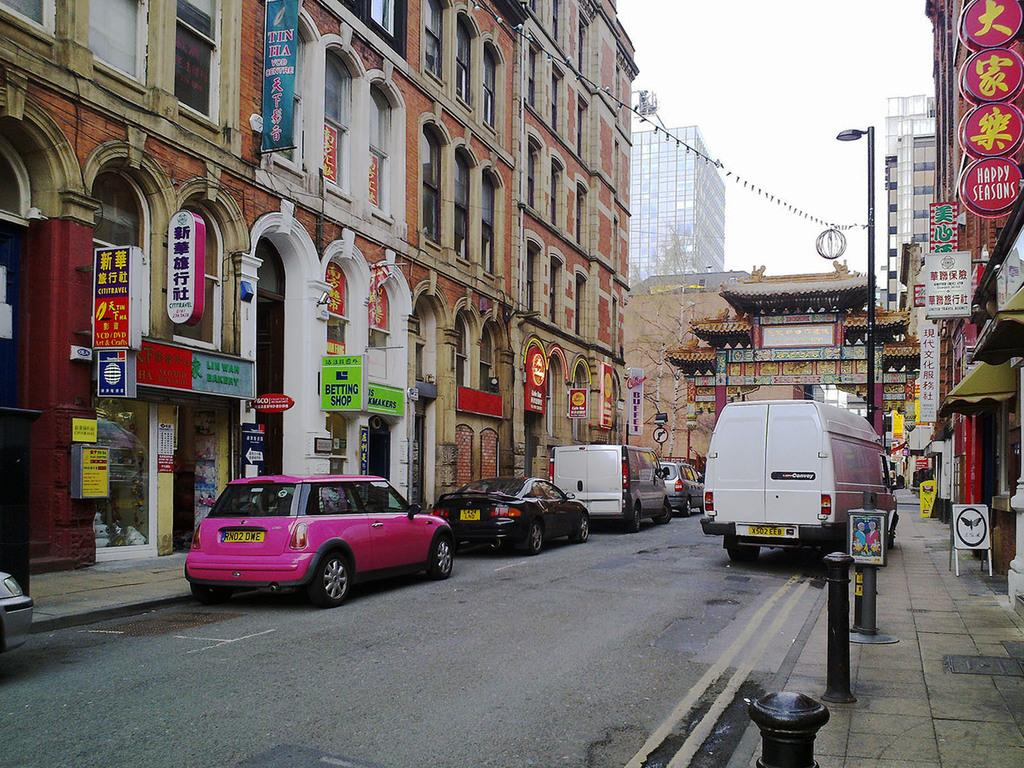vehicle: (184, 476, 457, 609), (701, 400, 907, 563), (431, 476, 591, 556), (548, 444, 672, 533), (644, 462, 703, 514)
